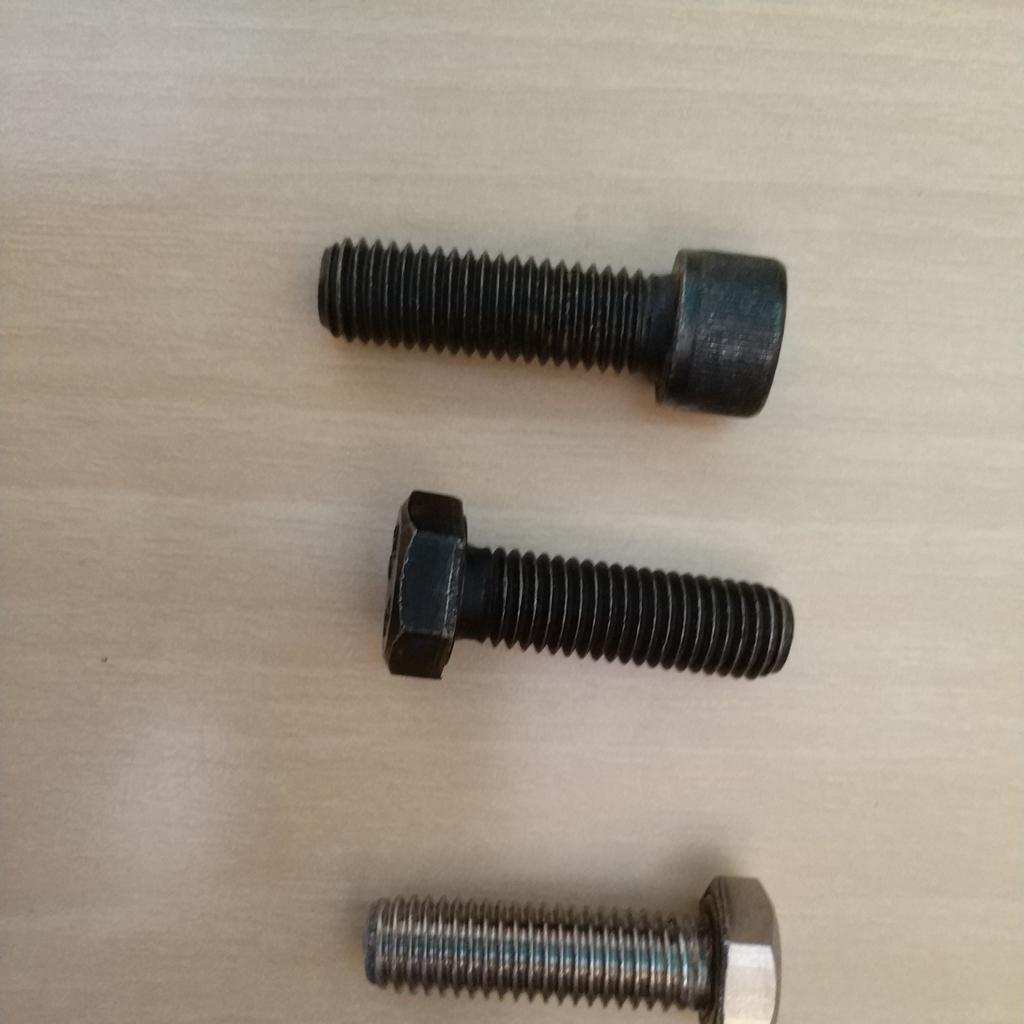screwtype1black: (315, 217, 790, 421)
screwtype2black: (377, 485, 800, 708)
screwtype2silver: (352, 864, 785, 1024)
